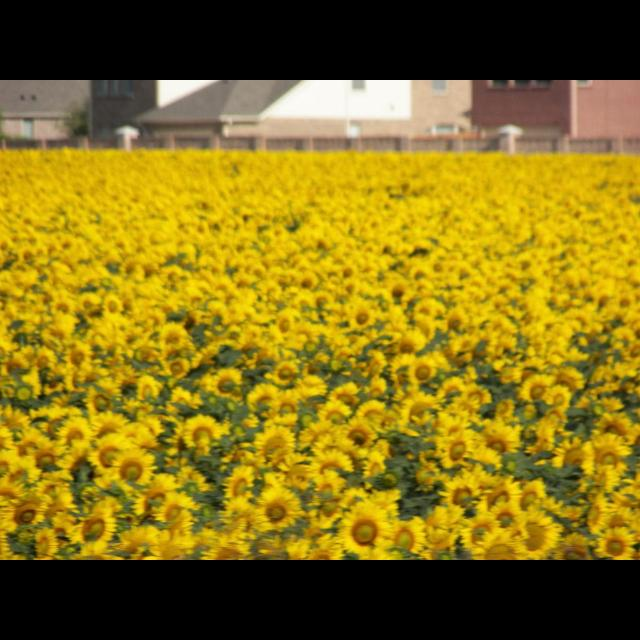Flower: (1, 146, 640, 560)
